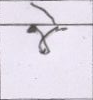e_matra: (30, 3, 59, 23)
